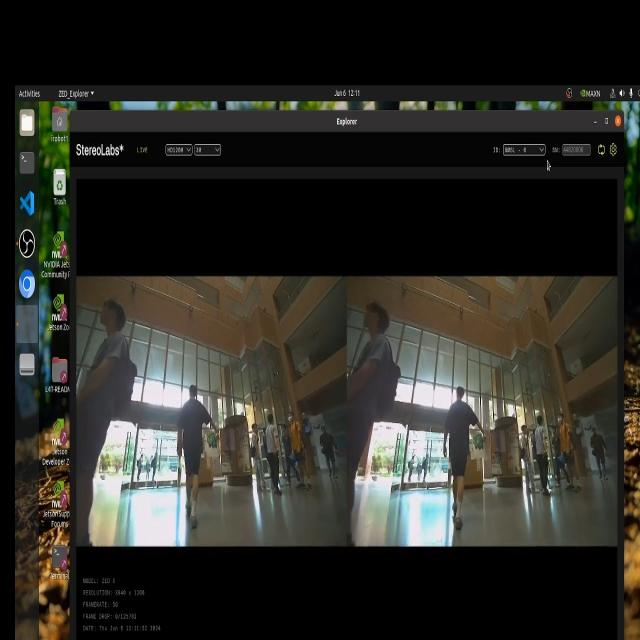green: (470, 427, 491, 458), (205, 429, 217, 450)
